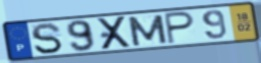9: (64, 18, 97, 53), (200, 9, 228, 41)
M: (126, 13, 170, 47)
P: (163, 10, 197, 46)
S: (29, 22, 65, 55)
X: (96, 15, 134, 52)
